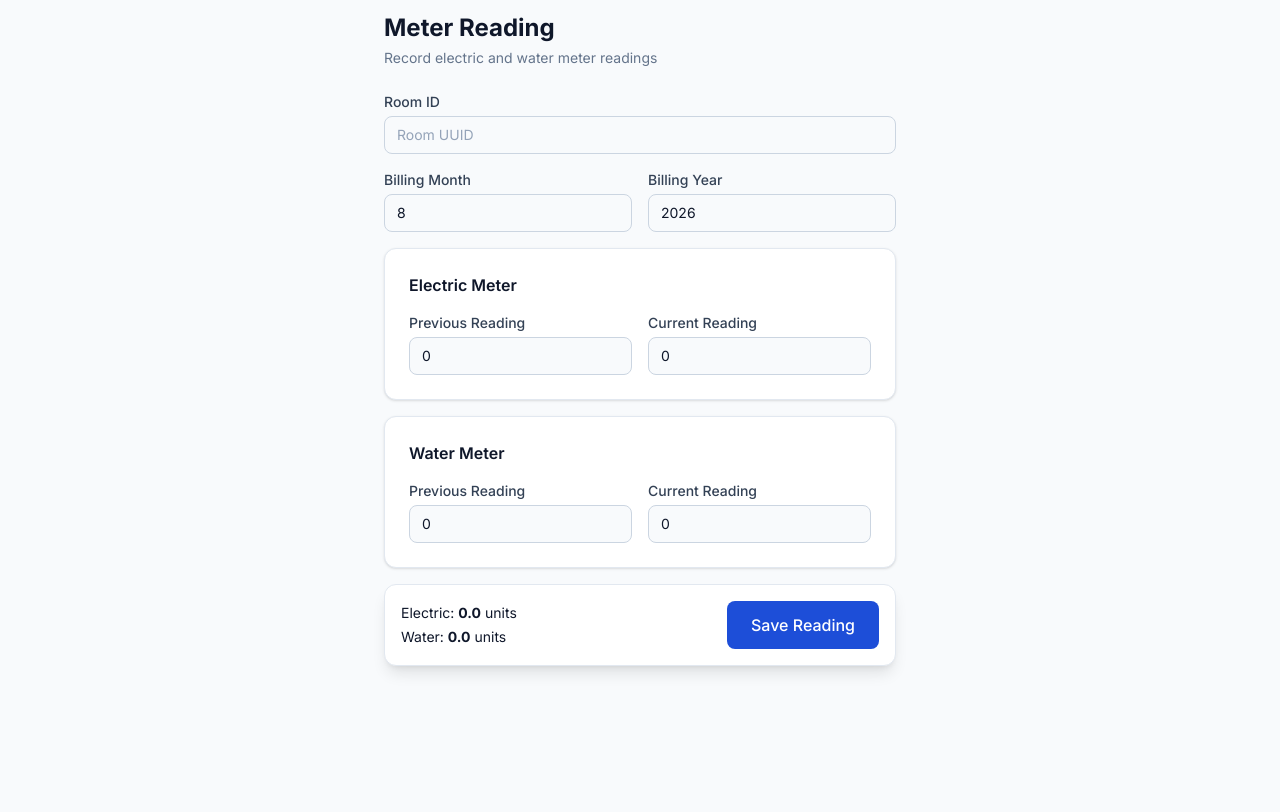
MeterReadingPage › shows success toast after successful submission
Type "room-1" into the field labelled "Room ID" at (640, 135), box [384,116,896,154]
Replace the text in the number field labelled "Billing Month" with "6" at (508, 213), box [384,194,632,232]
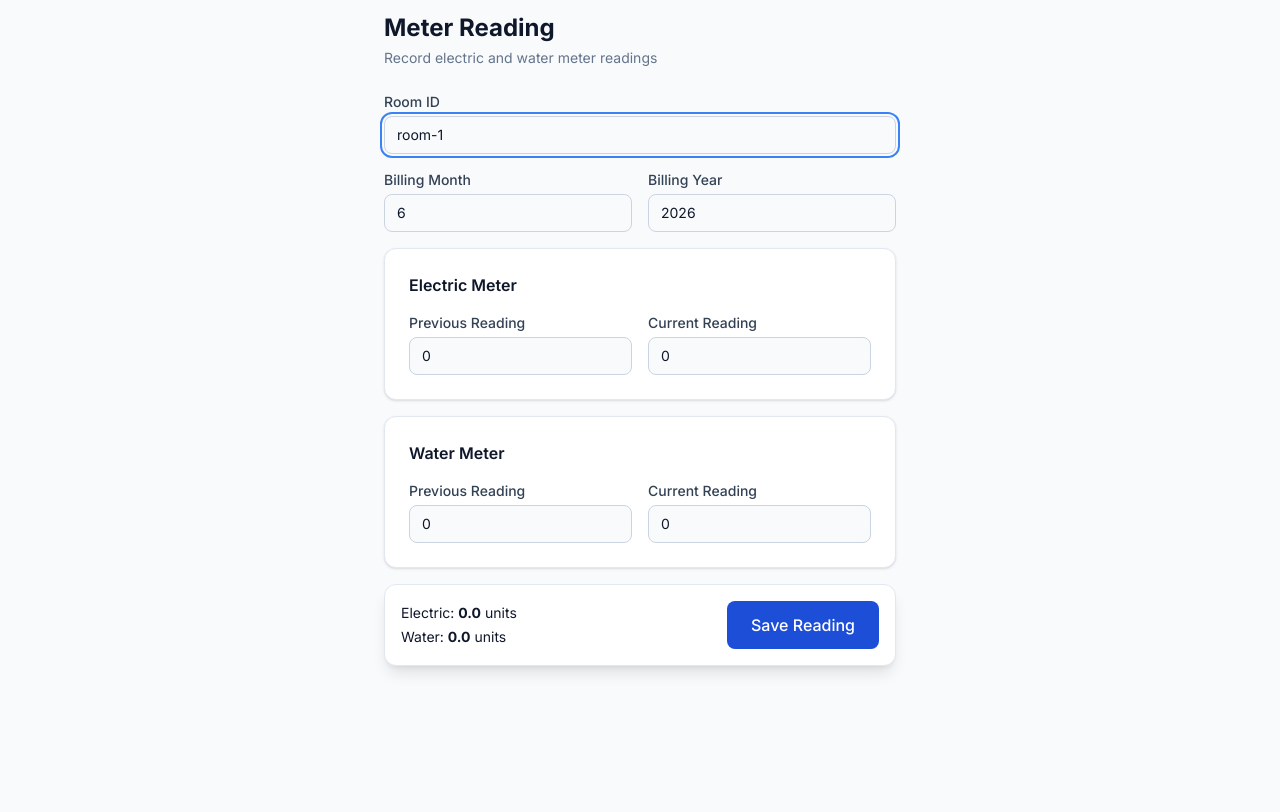
Replace the text in the number field labelled "Previous Reading" below "Electric Meter" with "100" at (520, 356), box [409,337,632,375]
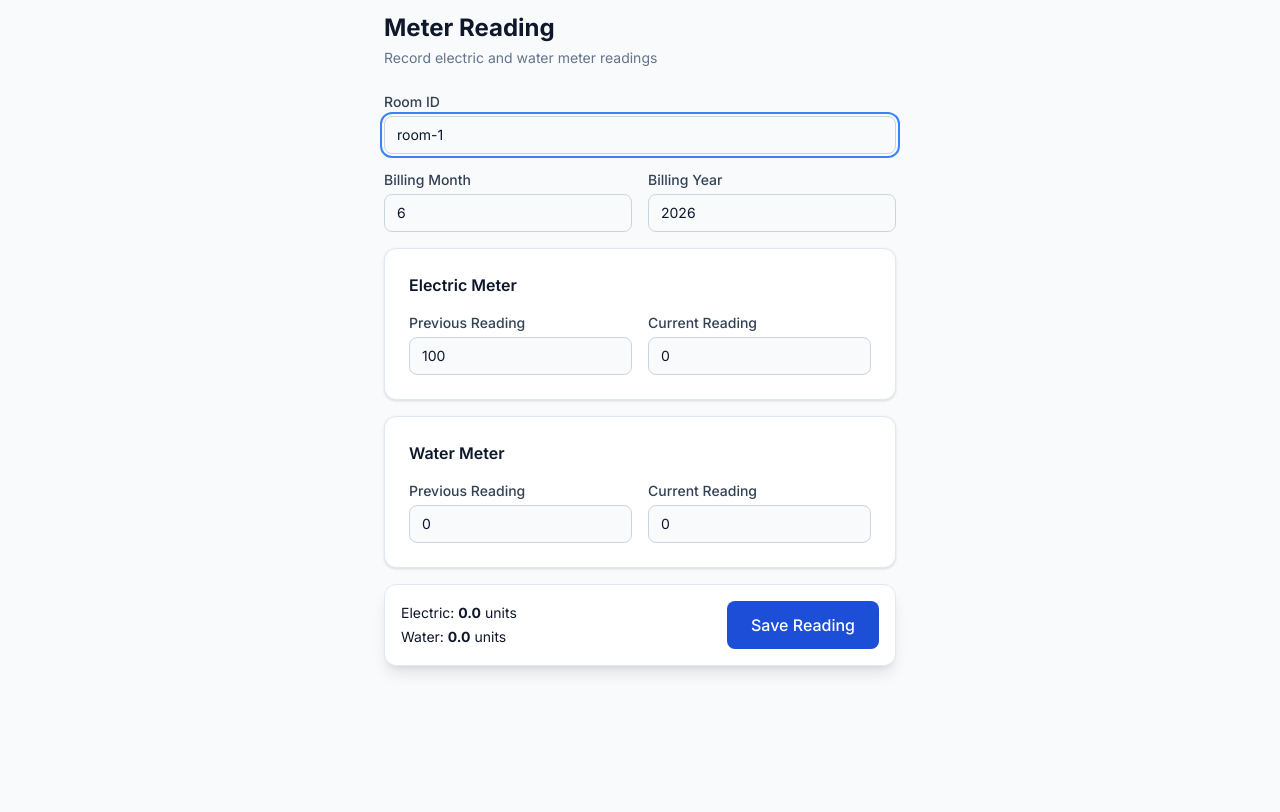
Replace the text in the number field labelled "Current Reading" below "Electric Meter" with "150" at (760, 356), box [648,337,871,375]
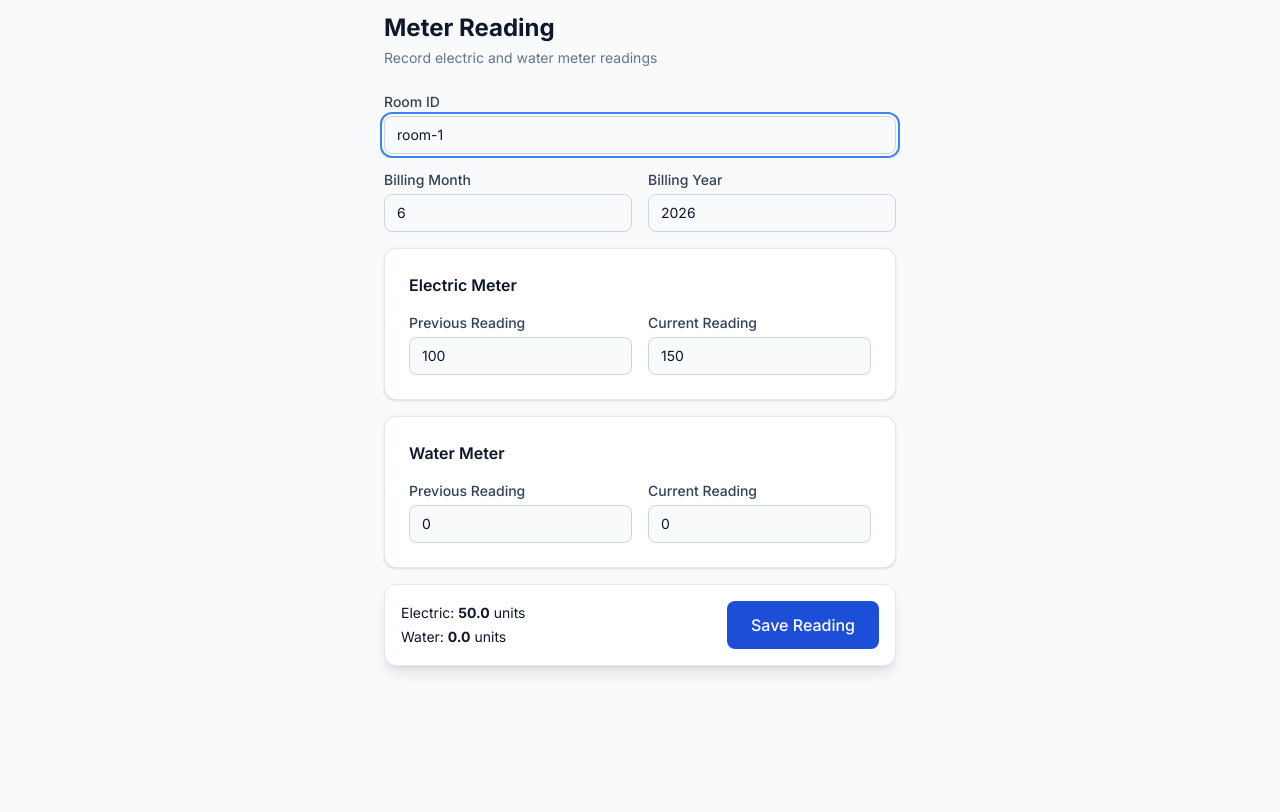
Replace the text in the 2nd number field labelled "Previous Reading" with "50" at (520, 524), box [409,505,632,543]
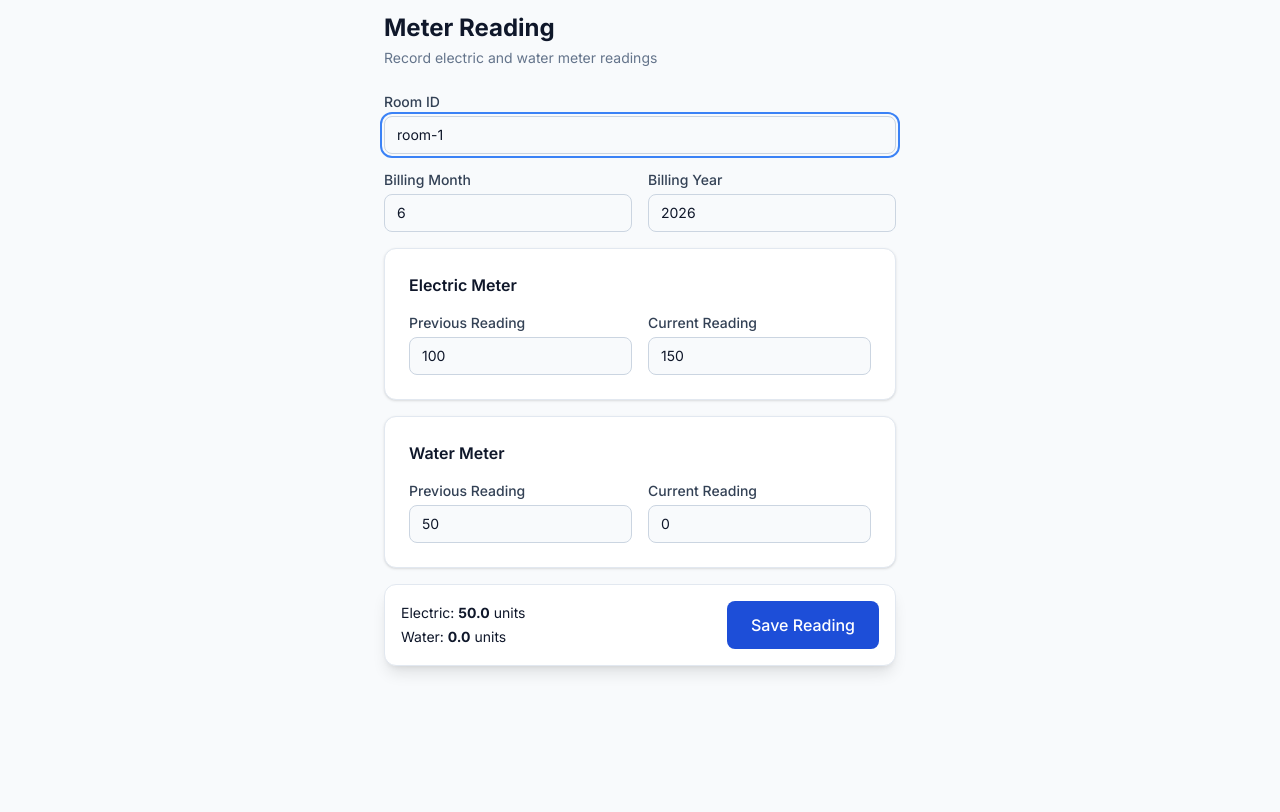
Replace the text in the 2nd number field labelled "Current Reading" with "75" at (760, 524), box [648,505,871,543]
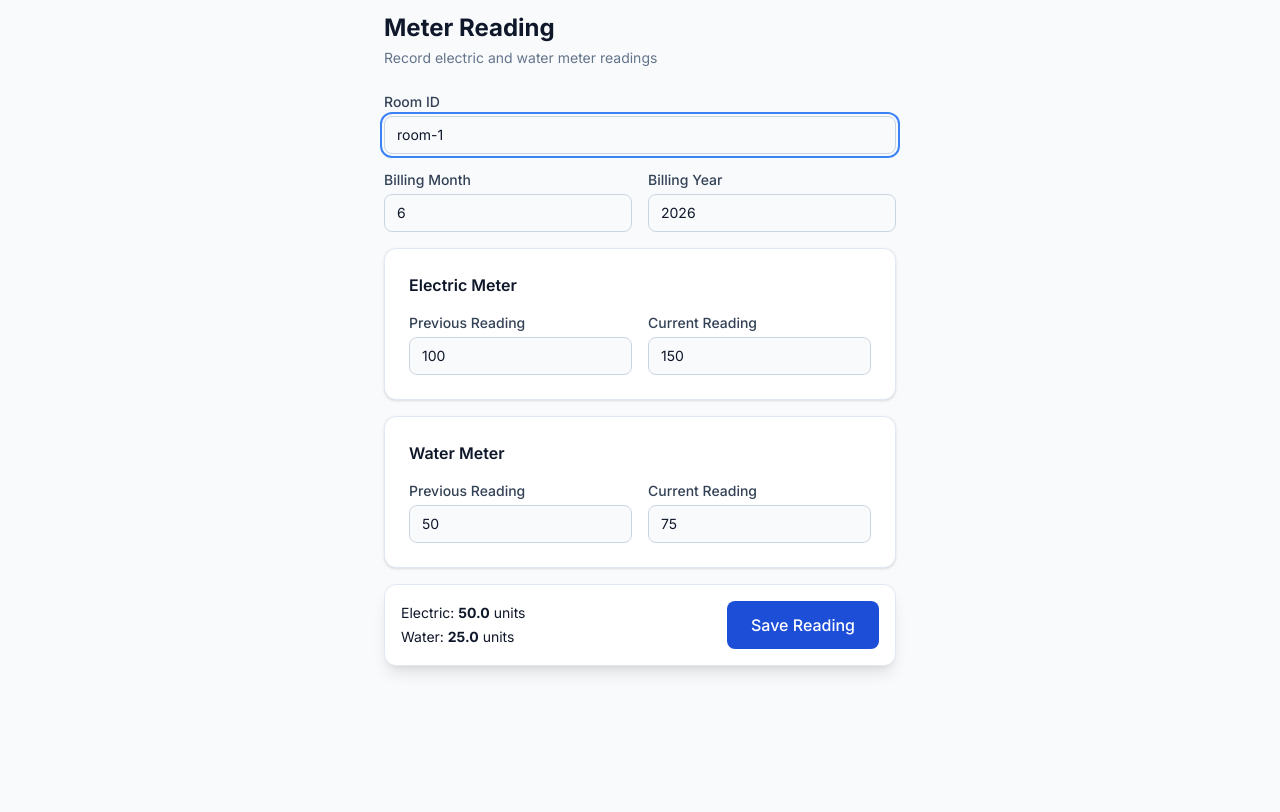
Click the button "Save Reading" at (803, 625), box [727,601,879,649]
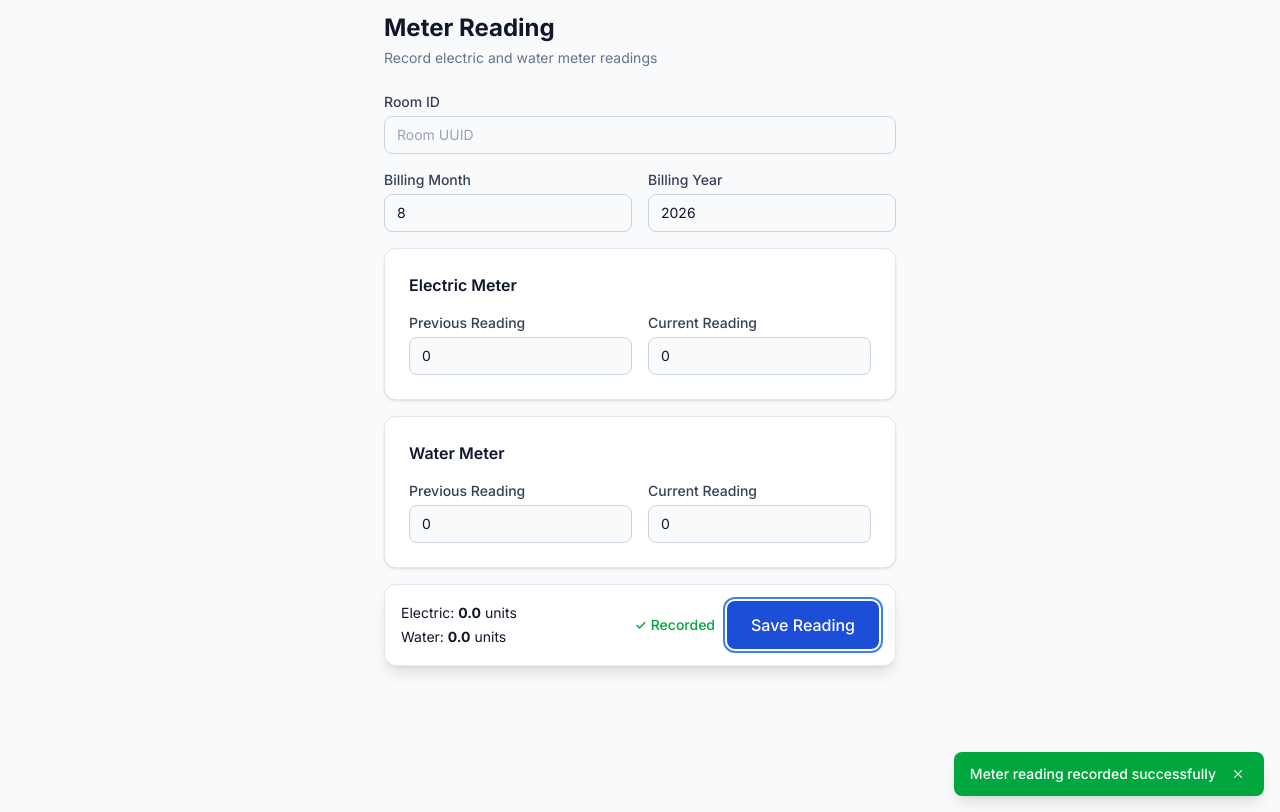
Result: the text "Meter reading recorded successfully" is shown at [970,764,1216,784]
